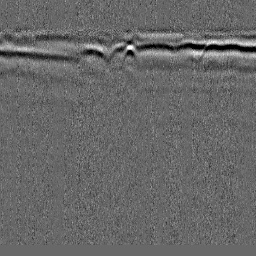cavity: (120, 43, 137, 65)
